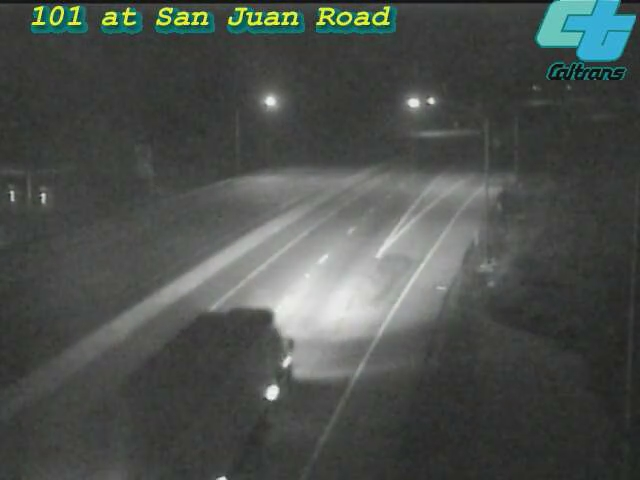vehicle: (149, 344, 259, 454)
